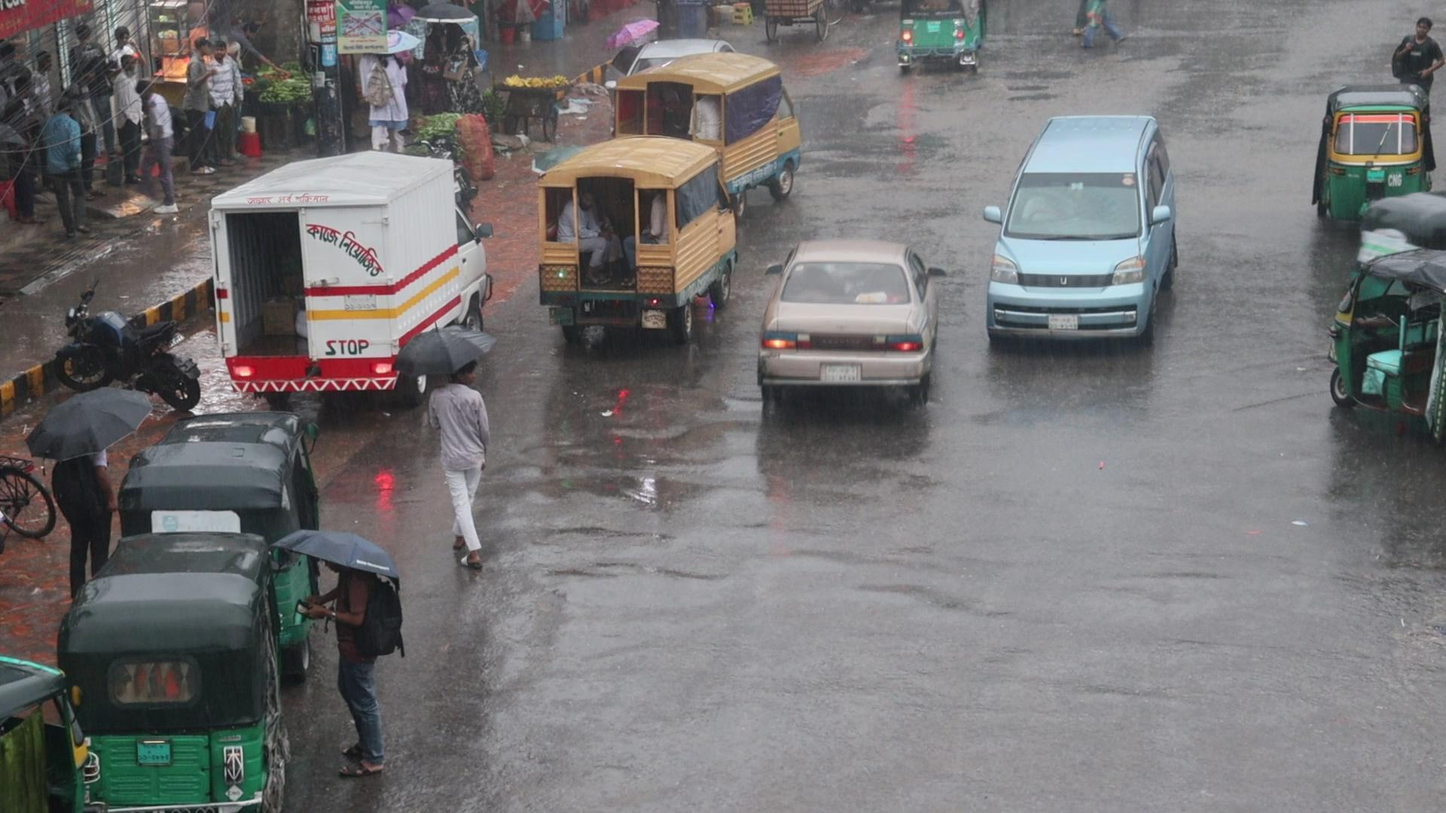Car: (979, 106, 1184, 357), (749, 234, 944, 426)
Truck: (533, 134, 744, 353), (621, 52, 808, 211)
